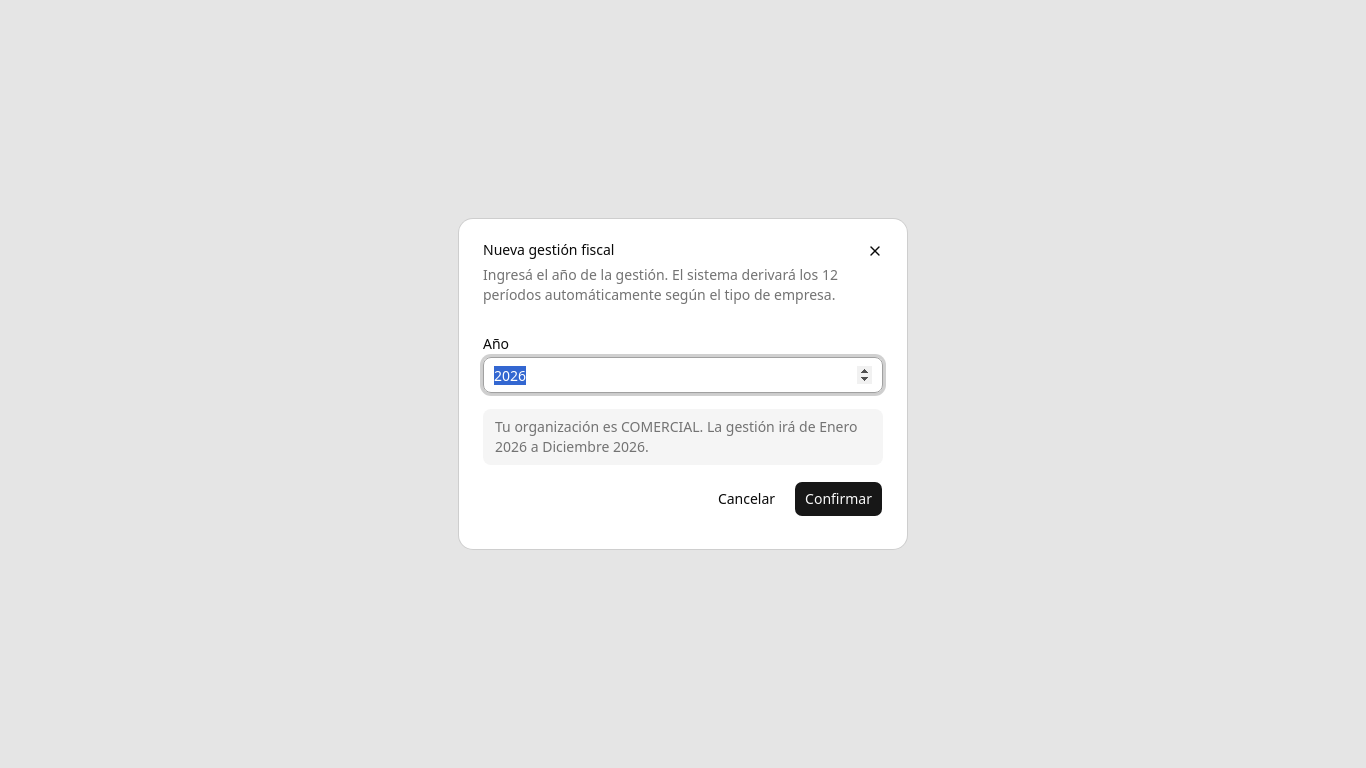
NuevaGestionDialog › year=1999 (< 2000) → error de validación antes de submit
The image size is (1366, 768).
Replace the text in the number field labelled "Año" with "1999" at x=683, y=375, box [483,357,883,393]
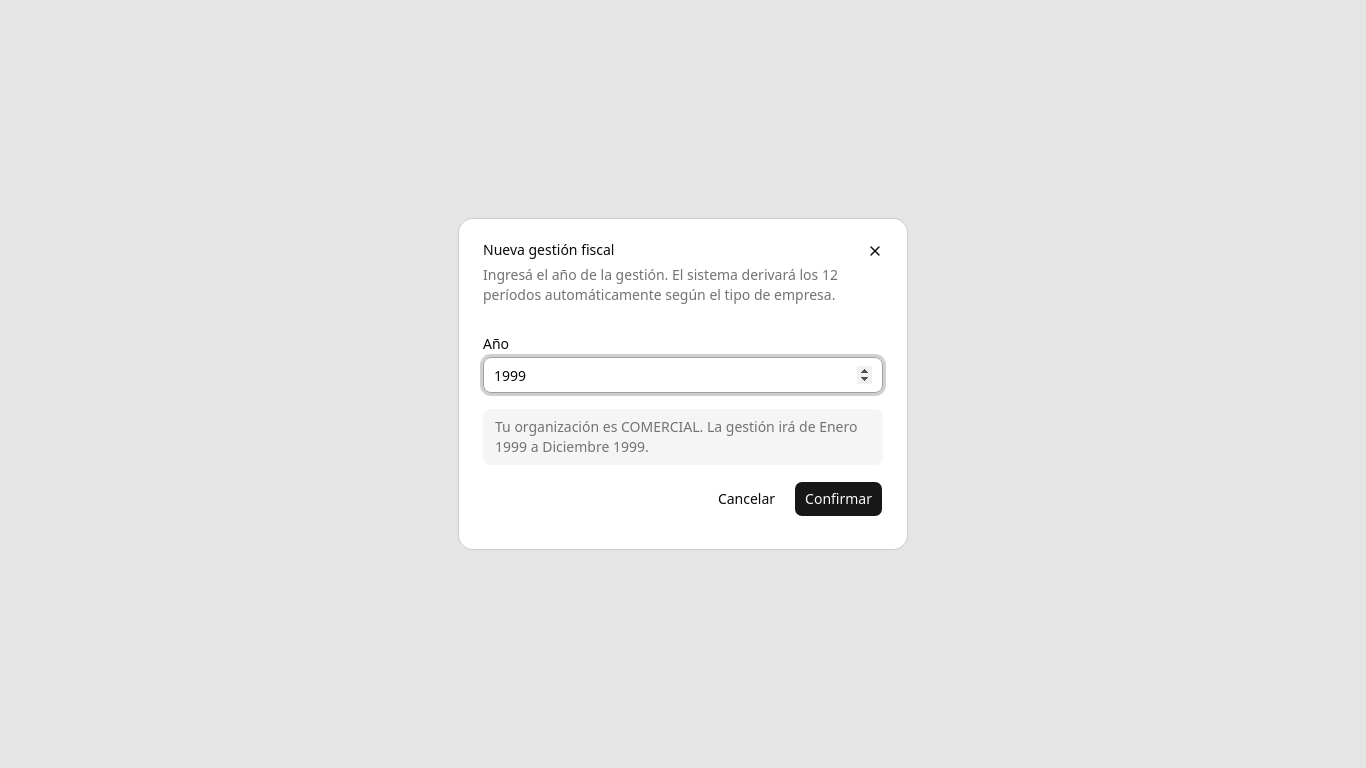
Click the button "Confirmar" at x=839, y=499, box [794,481,883,517]
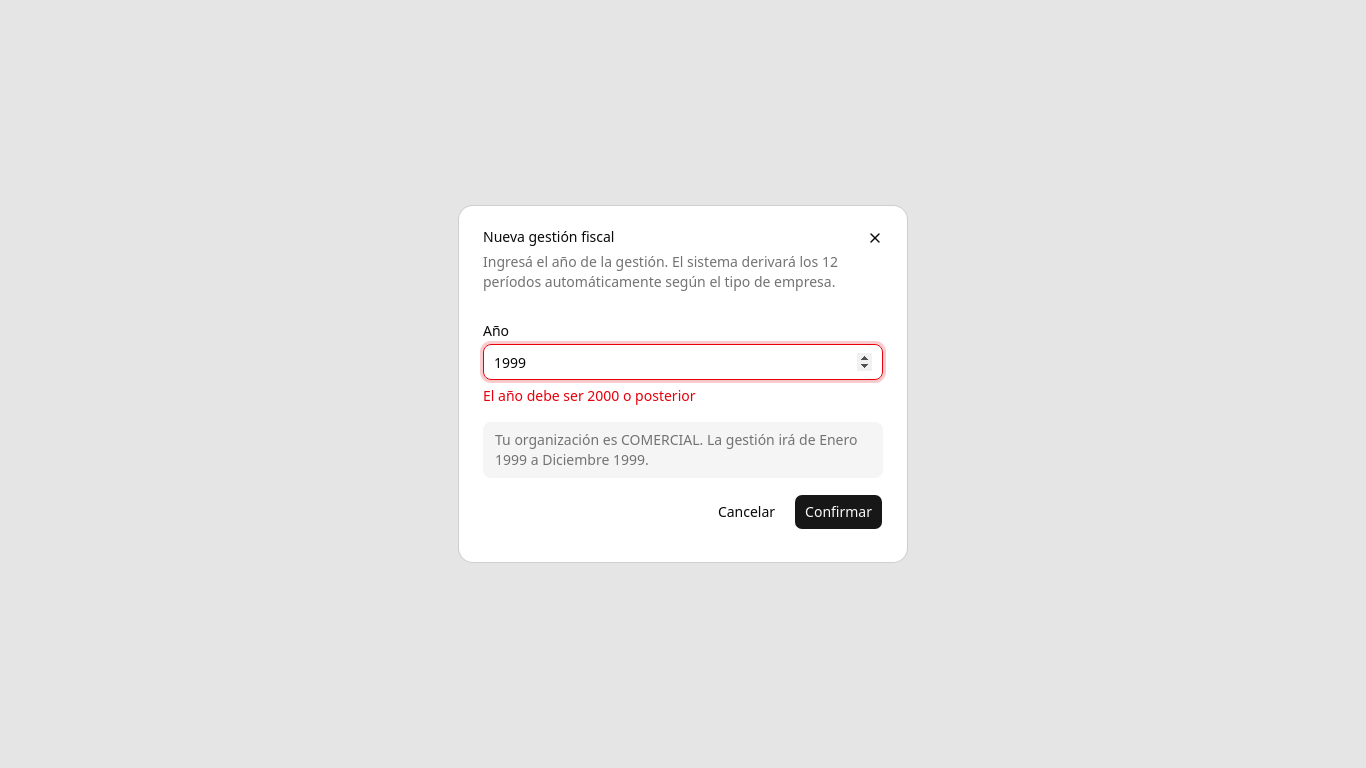
Check: the text "El año debe ser 2000 o posterior" is shown, box [483,386,696,405]
